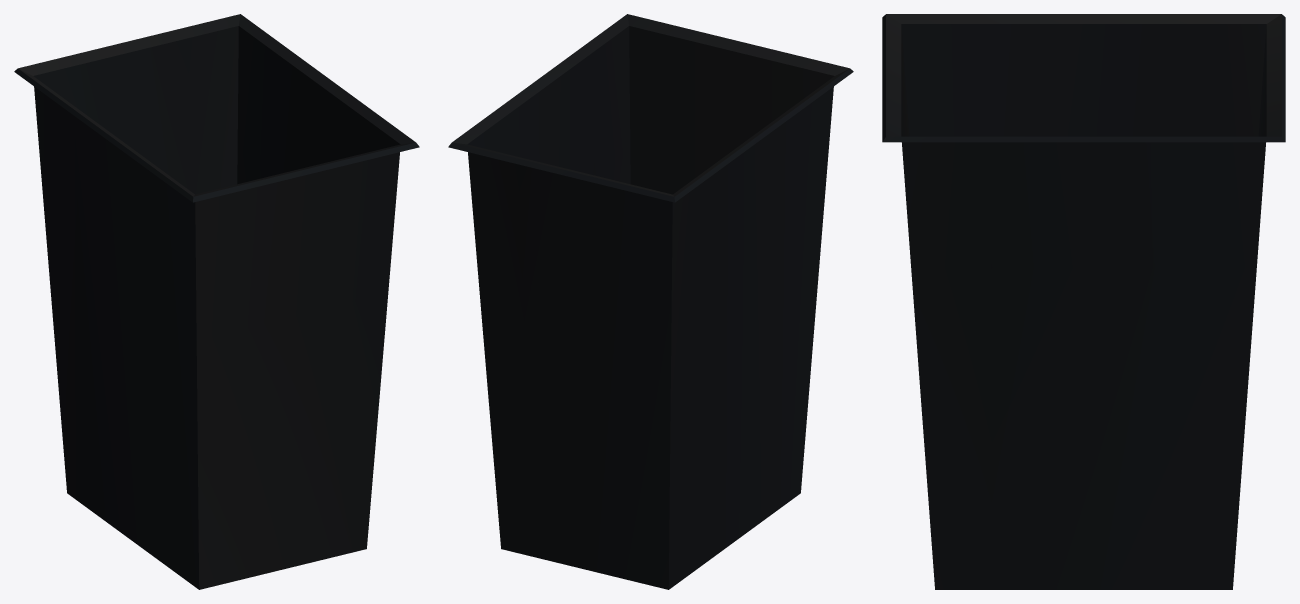
Rendered from bin.fbx.
3 views of the same model, side by side, from view 1: azimuth 30°, elevation 25°; view 2: azimuth 150°, elevation 25°; view 3: azimuth 270°, elevation 25° (orthographic). The views are drawn at different scales.
Visible parts, largest first — view 1: Bin; view 2: Bin; view 3: Bin.
Part boxes in pixels (bbox=[...]): Bin: bbox=[14, 14, 419, 589]; Bin: bbox=[448, 14, 853, 589]; Bin: bbox=[882, 14, 1285, 589].
Size of the model in its own units: 162 by 283 by 221.
